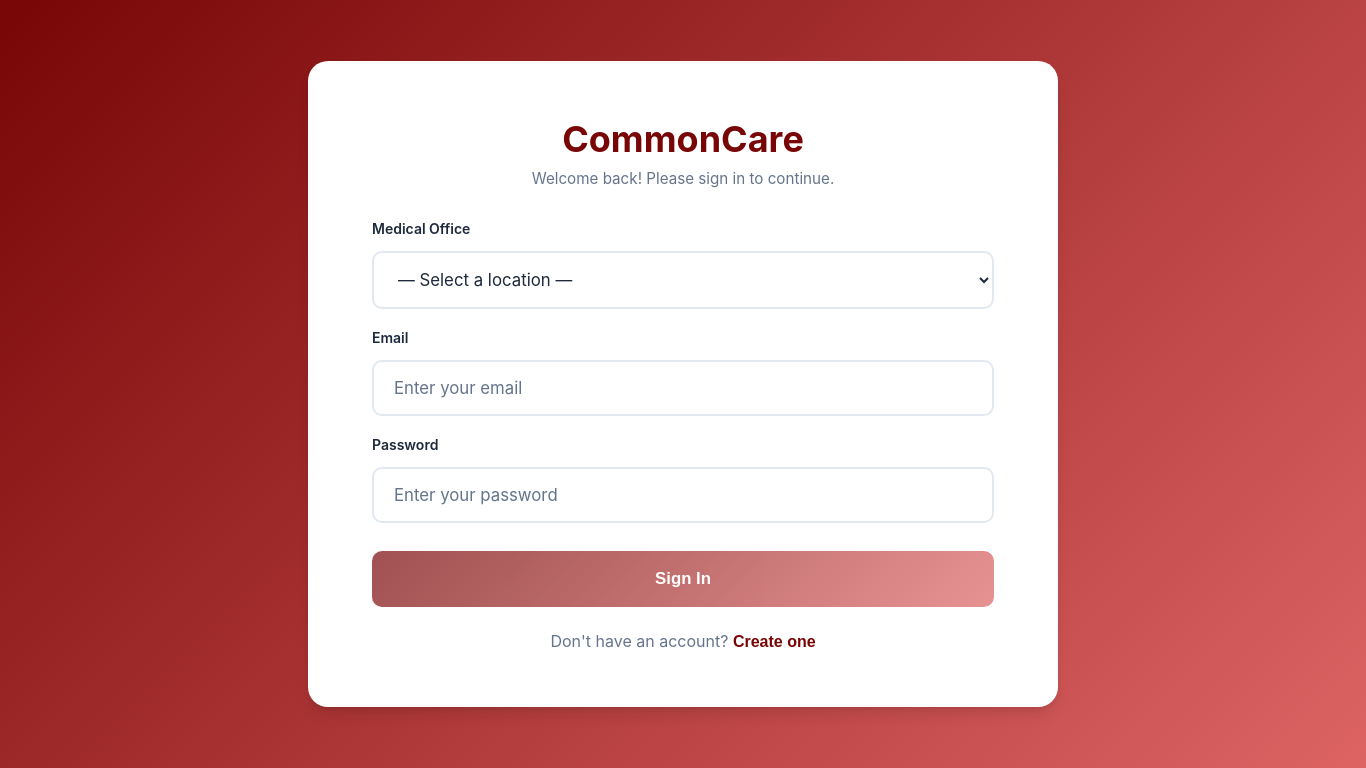
it: Login component › disables button while loading
The width and height of the screenshot is (1366, 768).
Expected: the dropdown labelled "Medical Office" is shown, [372,251,994,309]
Type "u@test.com" into the field labelled "Email" at x=683, y=388, box [372,360,994,416]
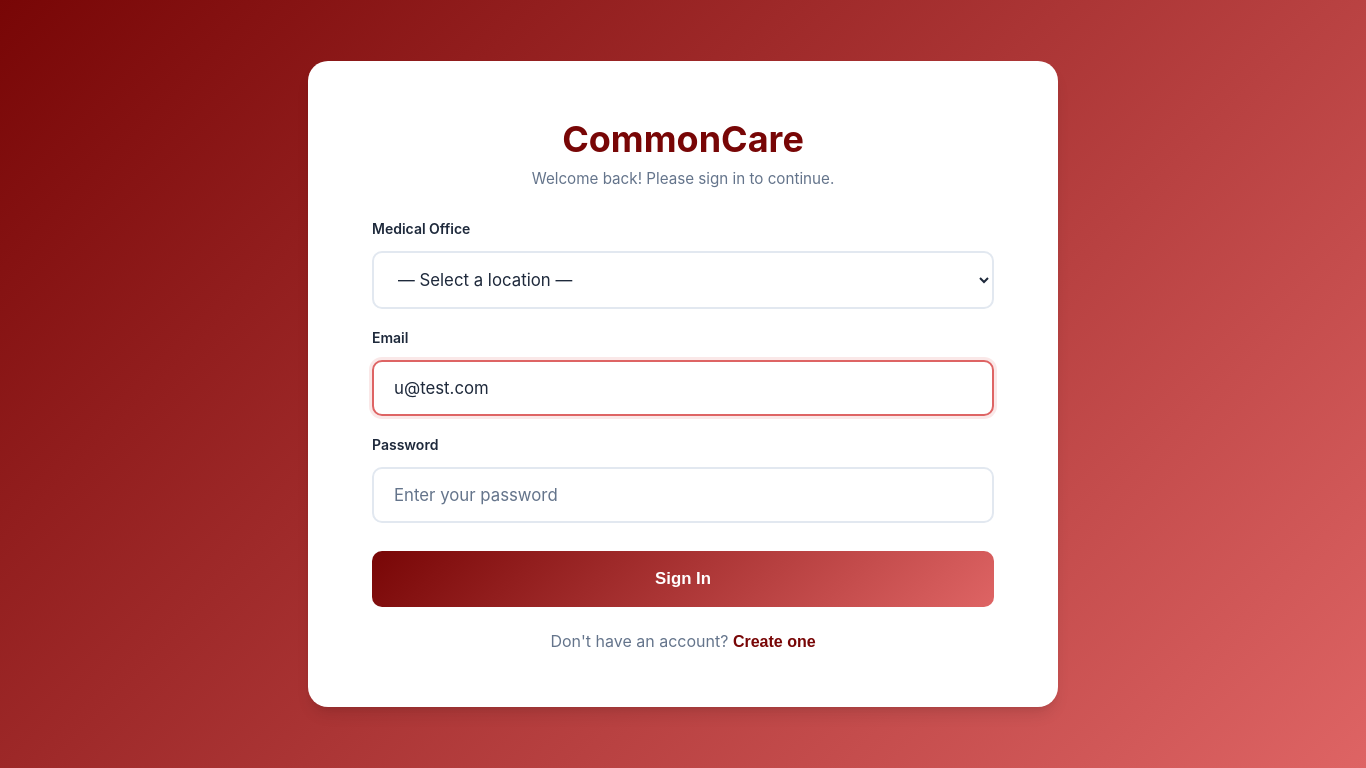
Type "pass123" into the password field labelled "Password" at x=683, y=495, box [372,467,994,523]
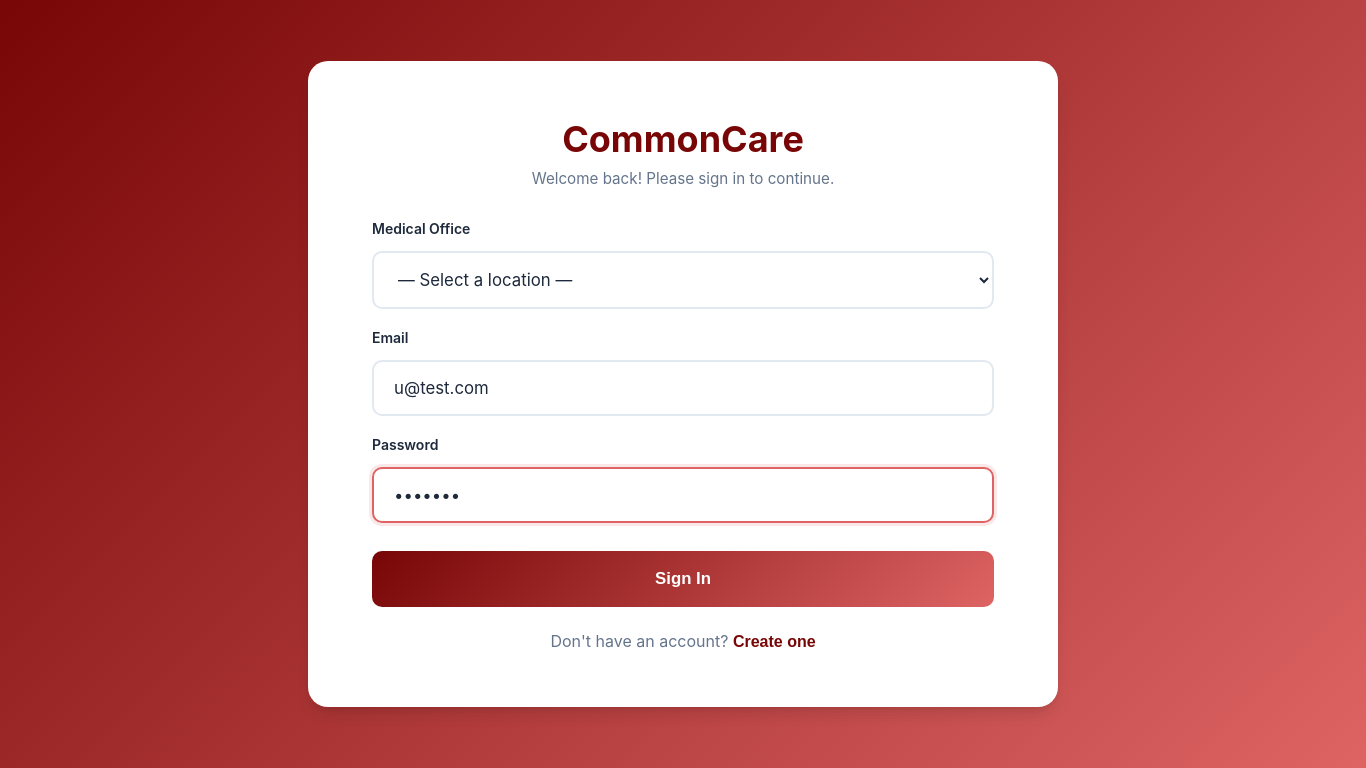
Click the button "Sign In" at x=683, y=579, box [372,551,994,607]
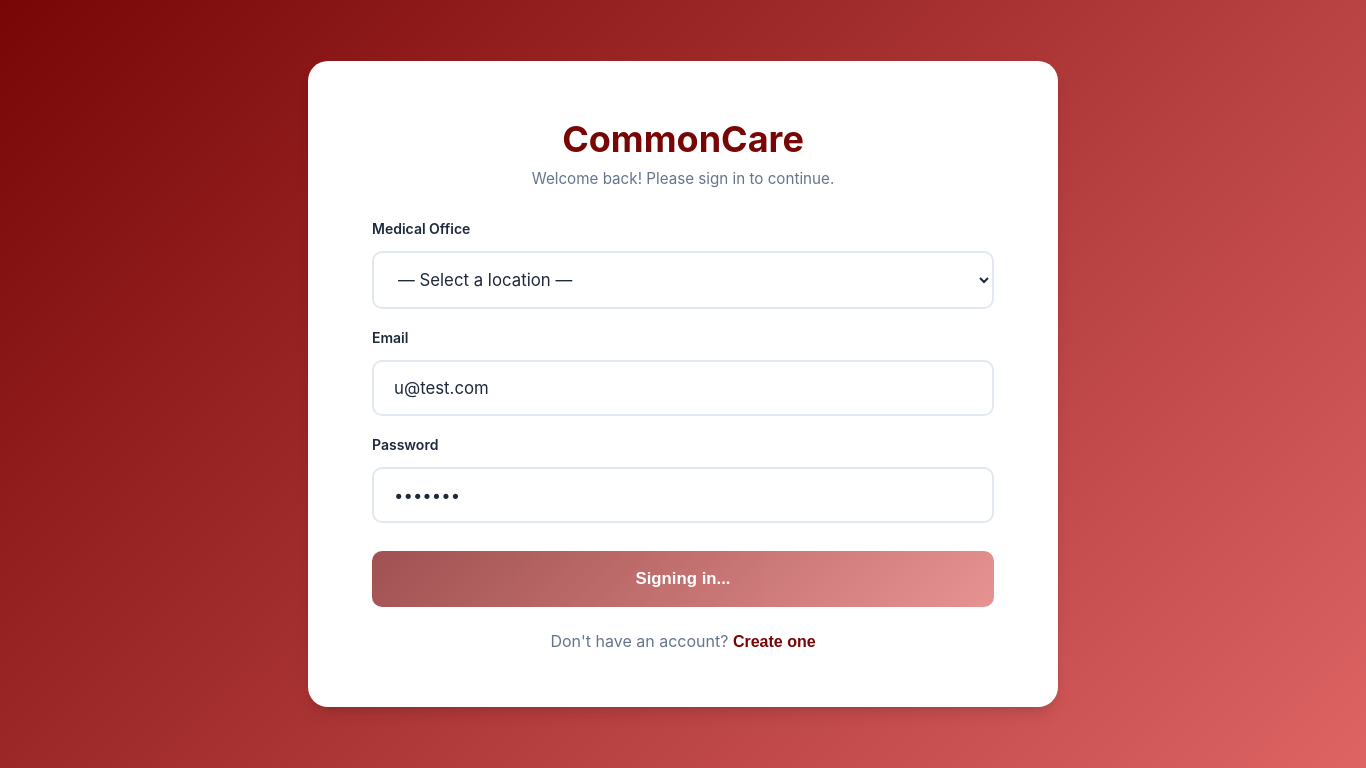
Expected: the button "Signing in..." is disabled, [372,551,994,607]
